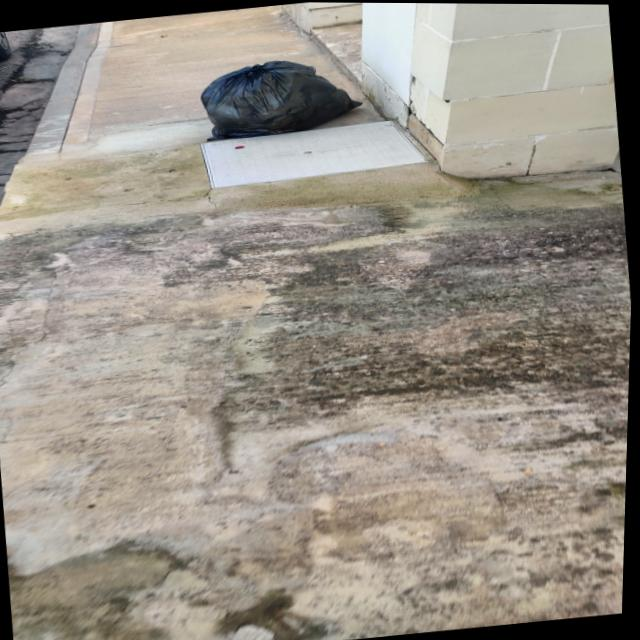Mixed Waste -Black Bags-: (201, 60, 364, 141)
